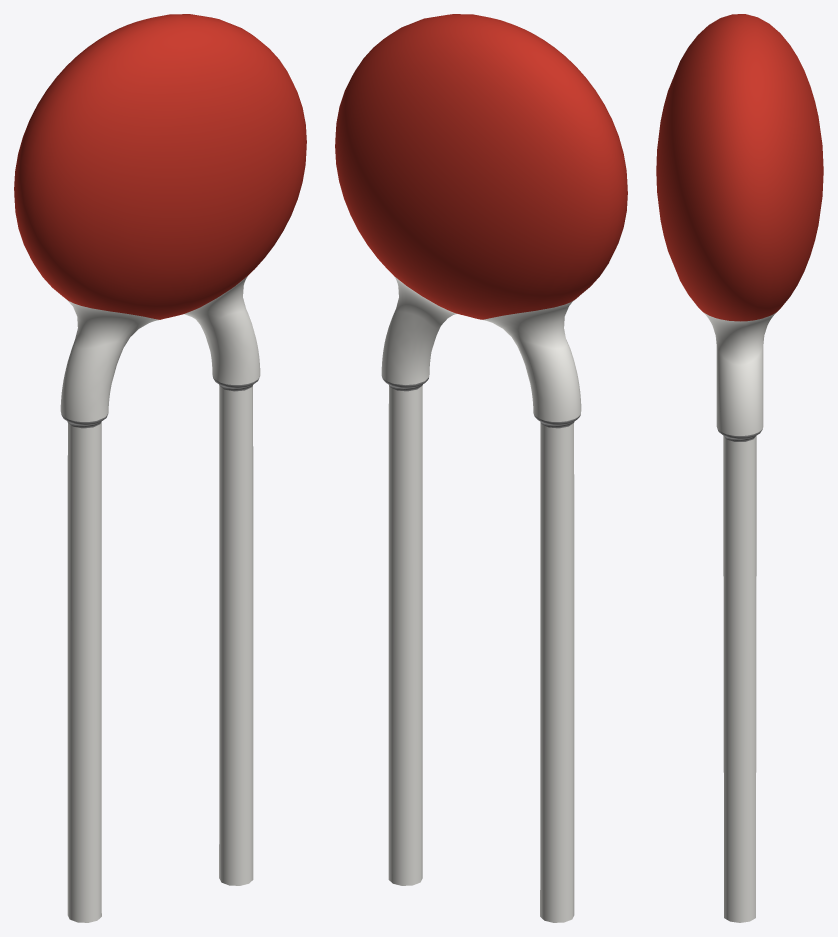
The model's file is Ceramic Disc Capacitor.obj.
3 renders of one model, left to right at view 1: azimuth 30°, elevation 25°; view 2: azimuth 150°, elevation 25°; view 3: azimuth 270°, elevation 25°, orthographic. The views are drawn at different scales.
Visible parts, largest first — view 1: Solid1; view 2: Solid1; view 3: Solid1.
Part boxes in pixels (bbox=[...]): Solid1: bbox=[14, 14, 306, 922]; Solid1: bbox=[335, 14, 627, 922]; Solid1: bbox=[656, 14, 823, 922].
Bounding box in the file's own units: 4.69 × 14.03 × 2.5.
